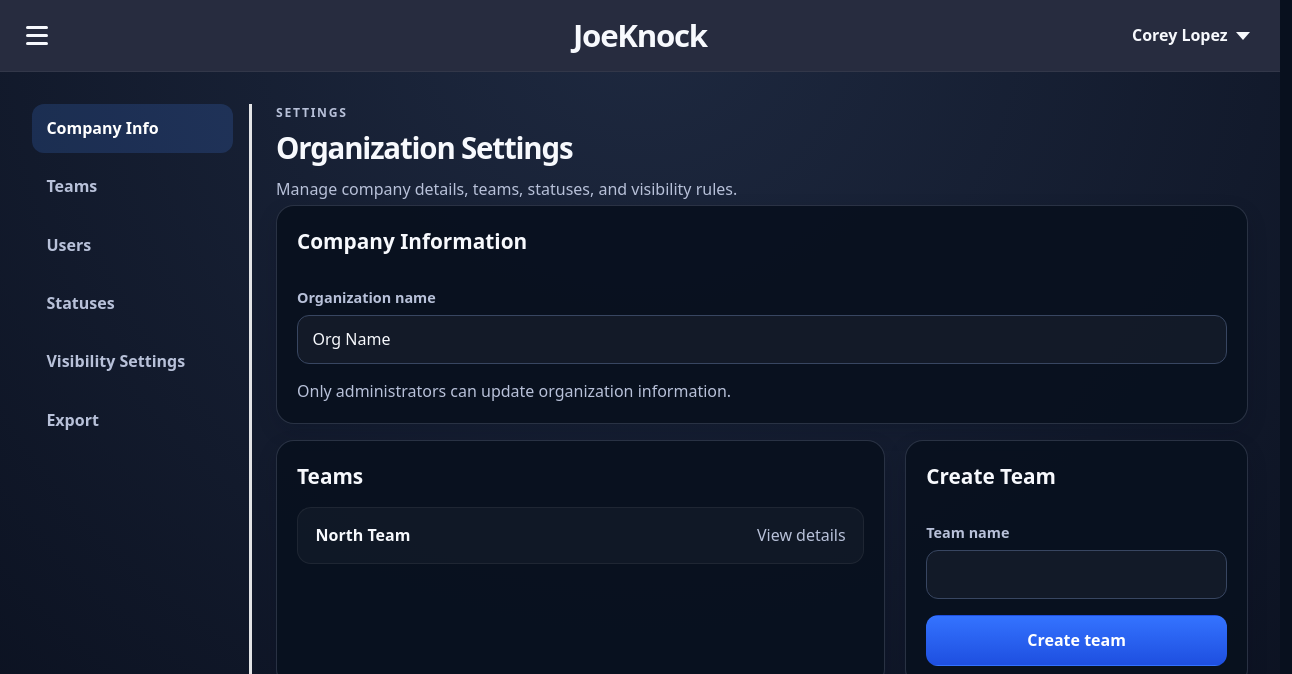
Scenario: settings page › removes a selected team member and refreshes team detail
Expected: the text "North Team" is shown, [316, 524, 410, 547]
Click the button "North Team View details": (363, 535) [297, 507, 864, 564]
(page scrolled)
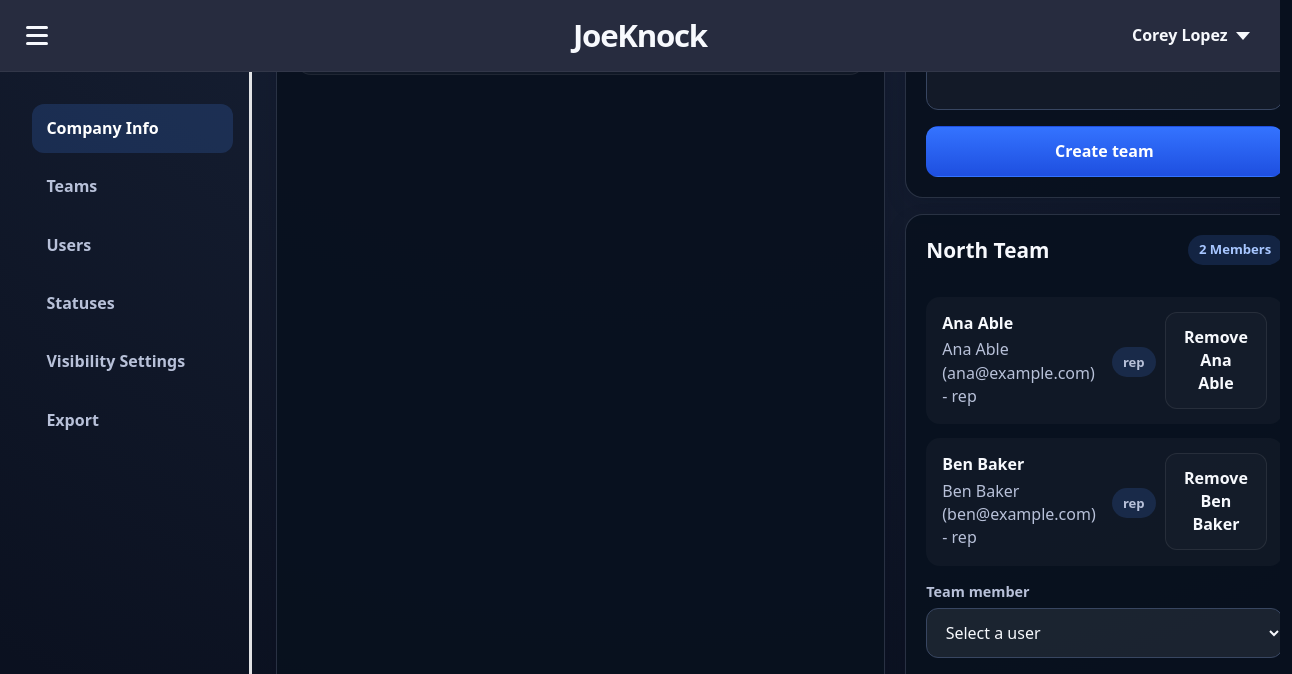
Now the text "Ana Able (ana@example.com) - rep" is shown, box [942, 338, 1096, 408]
Click the button "Remove Ana Able": (1216, 361) [1165, 312, 1266, 409]
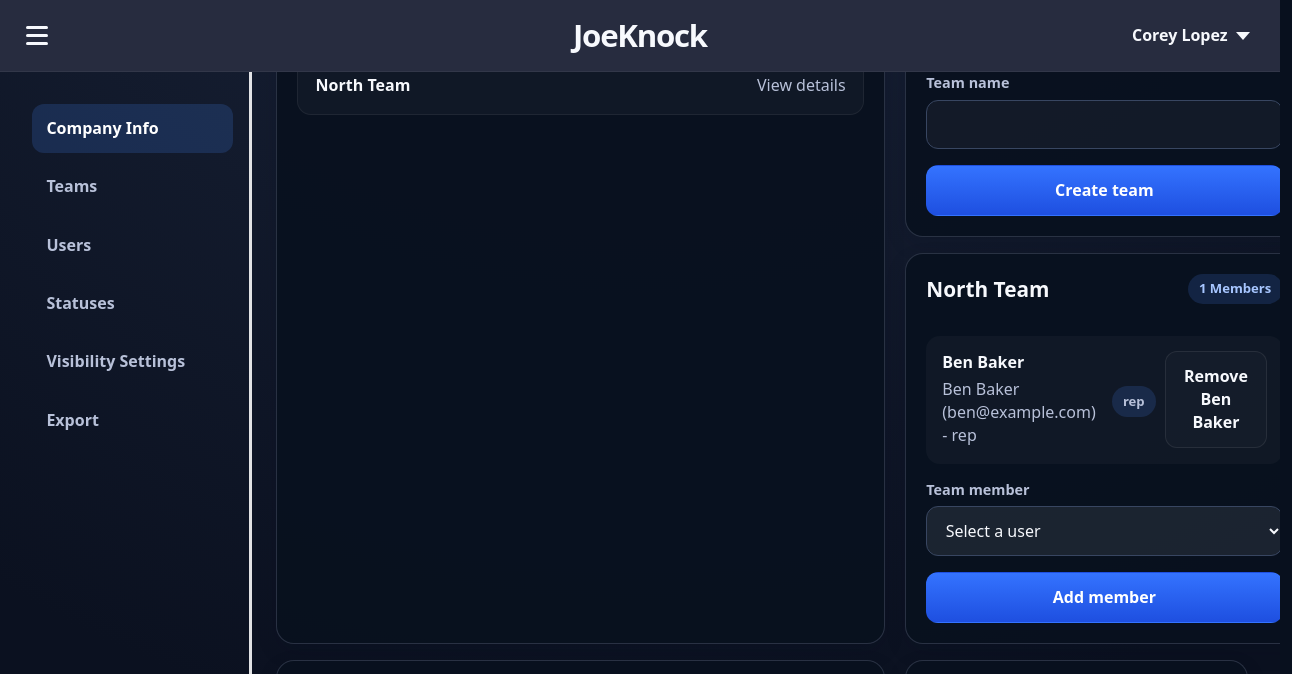
Now the text "Ben Baker (ben@example.com) - rep" is shown, box [942, 378, 1096, 447]
Now the text "Ana Able (ana@example.com) - rep" is gone
